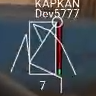hacks_1: (10, 1, 80, 95)
